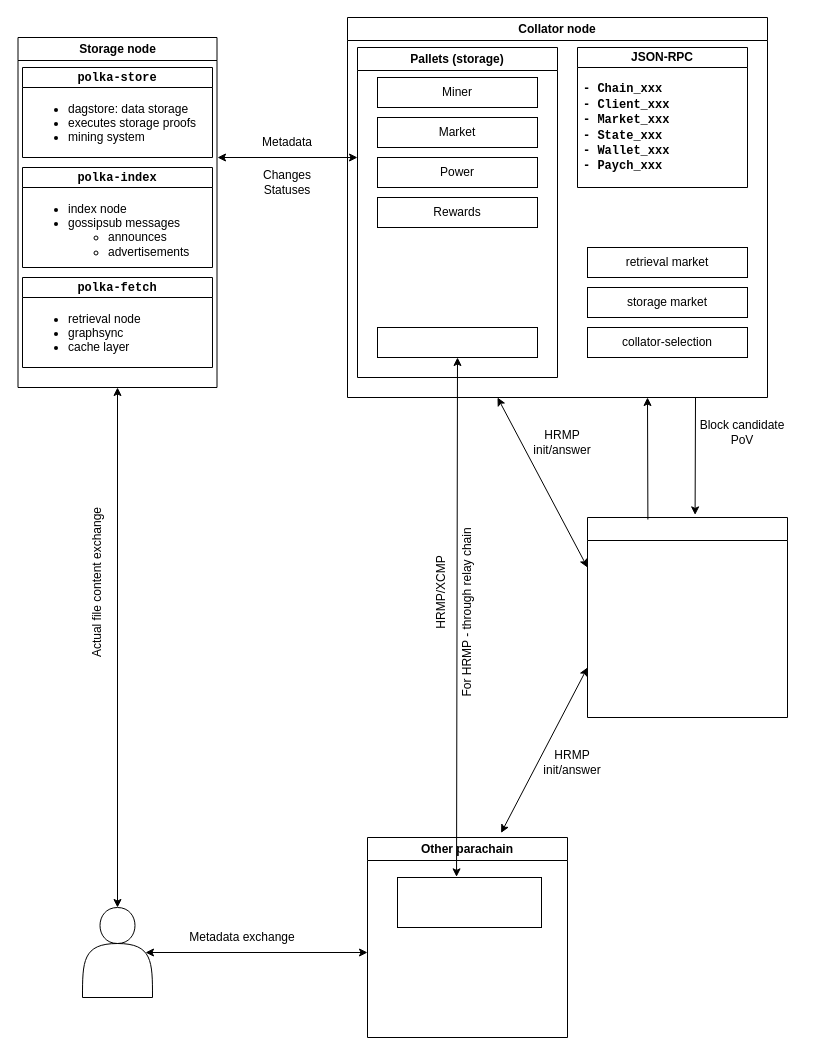
This 814x1055 diagram has some shape labels left out. The centre of each missing label's shape, as x and y in pixels:
"Pallet pstorage" belongs at (469,902).
"polka-storage" belongs at (457,342).
"Relay chain" belongs at (687,617).
